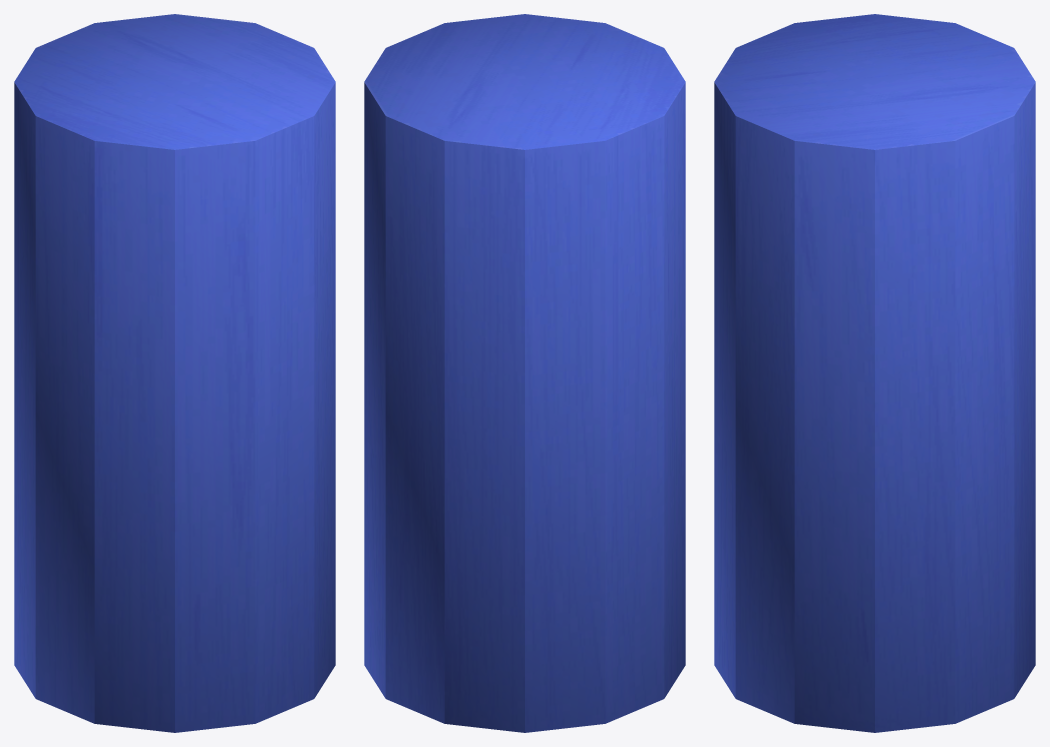
The model's file is CylinderBlock_Blue.fbx.
3 views of the same model, side by side, from view 1: azimuth 30°, elevation 25°; view 2: azimuth 150°, elevation 25°; view 3: azimuth 270°, elevation 25° (orthographic).
Visible parts, largest first — view 1: Cylinder.003; view 2: Cylinder.003; view 3: Cylinder.003.
Boxes of the visible parts, x1,y1,x2,y2 form: Cylinder.003: [14, 14, 335, 732]; Cylinder.003: [364, 14, 685, 732]; Cylinder.003: [714, 14, 1035, 732].
Bounding box in the file's own units: 100 × 200 × 100.
